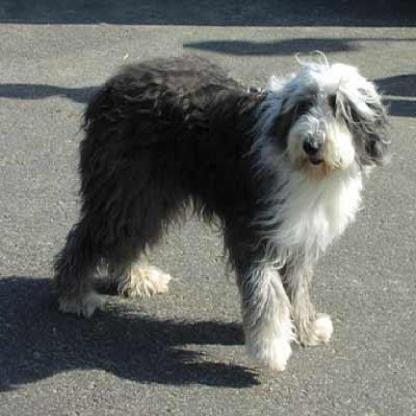Old_English_sheepdog: (51, 48, 393, 380)
